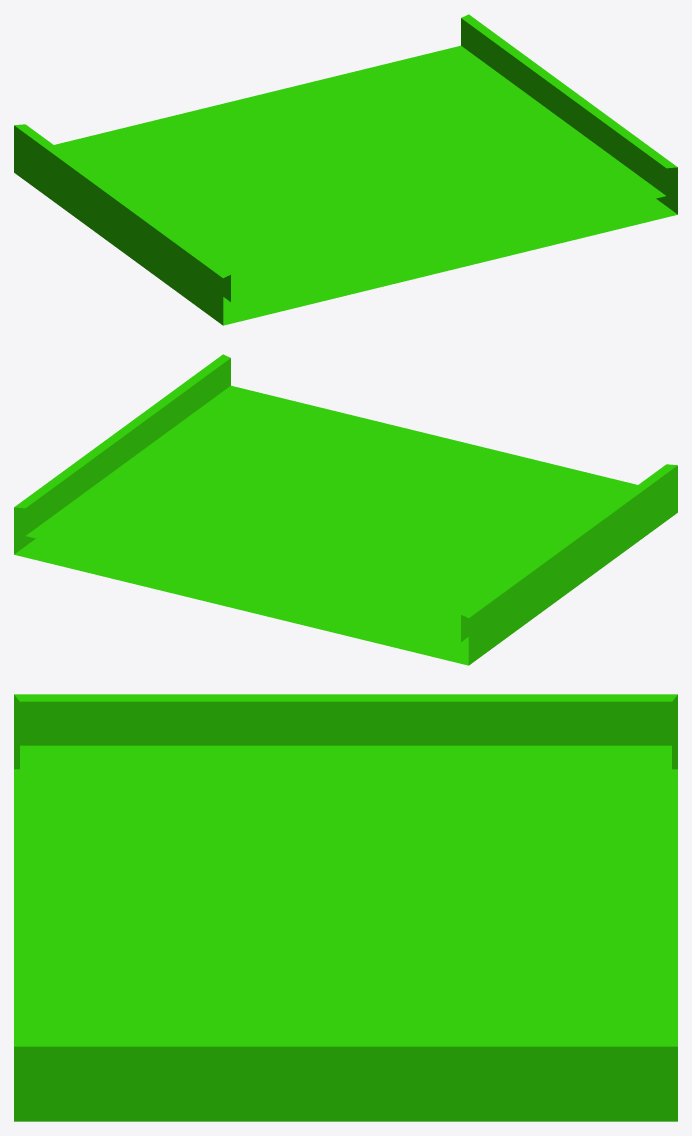
The model's file is golfsquare.glb.
The picture shows the model from 3 angles, top to bottom: view 1: azimuth 30°, elevation 25°; view 2: azimuth 150°, elevation 25°; view 3: azimuth 270°, elevation 25°; orthographic projection. The views are drawn at different scales.
Visible parts, largest first — view 1: Cube; view 2: Cube; view 3: Cube.
Part boxes in pixels (x1,y1,x2,y2): Cube: [14, 14, 677, 325]; Cube: [14, 354, 677, 665]; Cube: [14, 694, 677, 1121].
Bounding box in the file's own units: 13.16 × 1.31 × 10.48.
